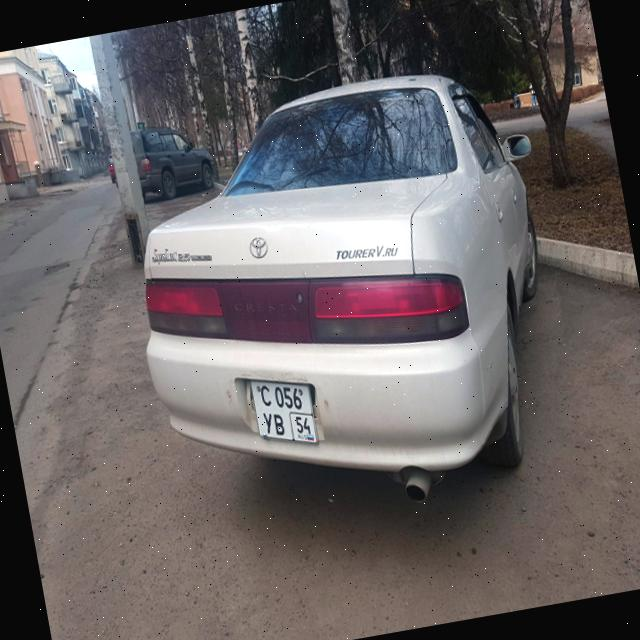number-plates: (246, 366, 320, 456)
